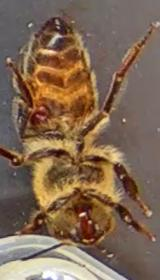varroa_mite: (23, 100, 59, 130)
